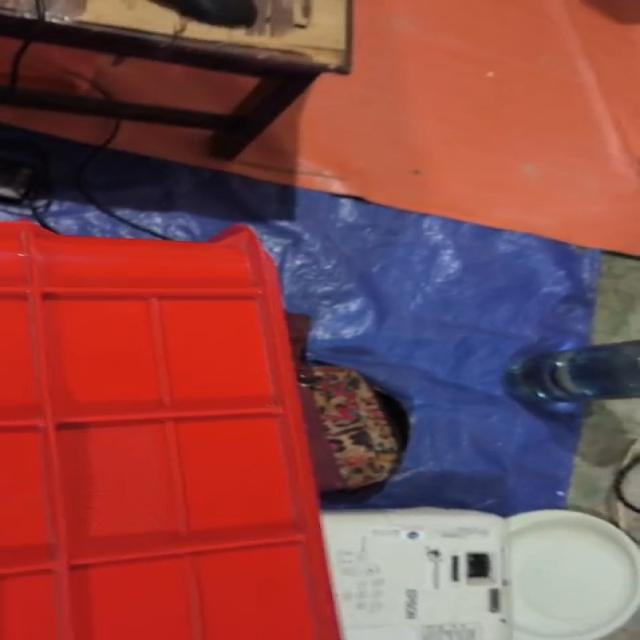red plastic box: (0, 218, 343, 640)
